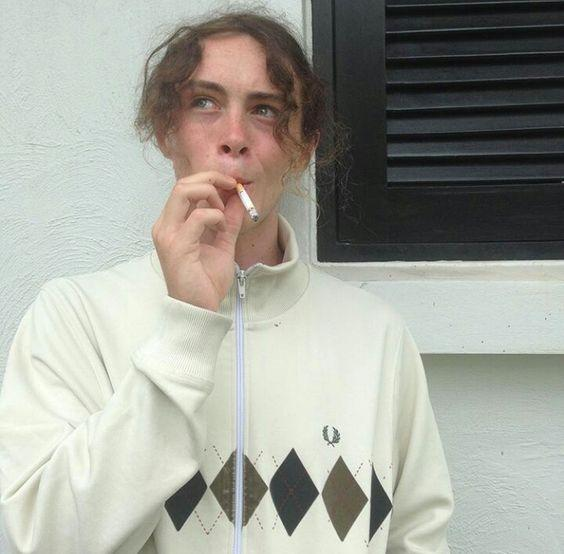cigarette: (235, 182, 259, 223)
